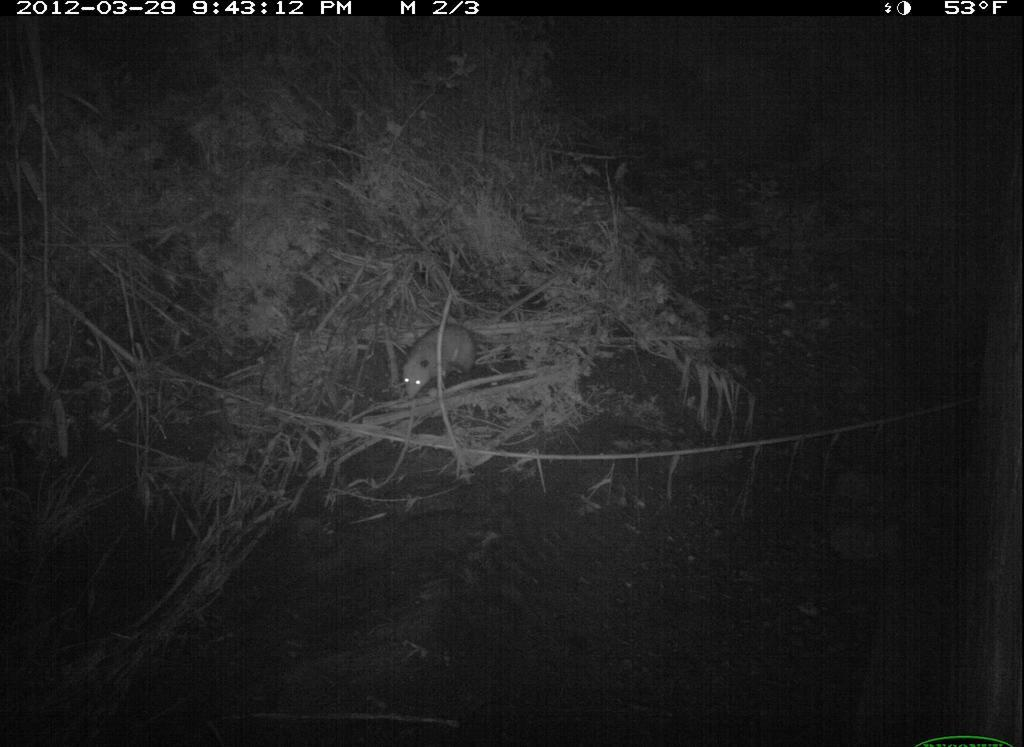opossum: (399, 321, 481, 408)
